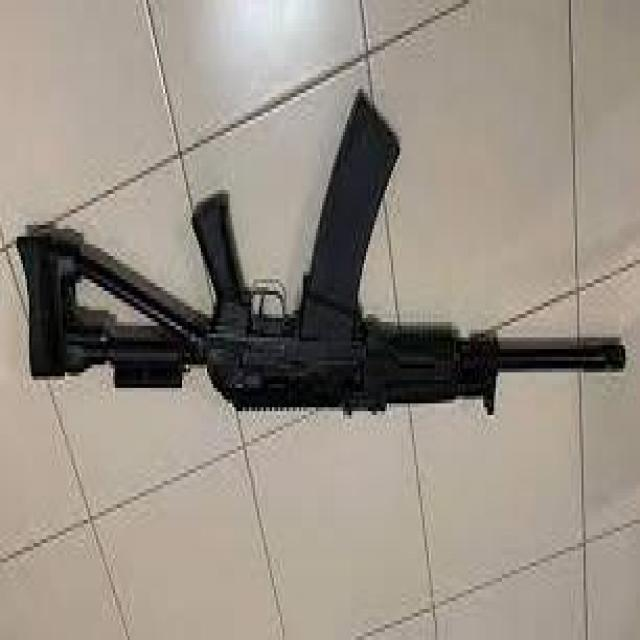weapon: (14, 88, 626, 420)
